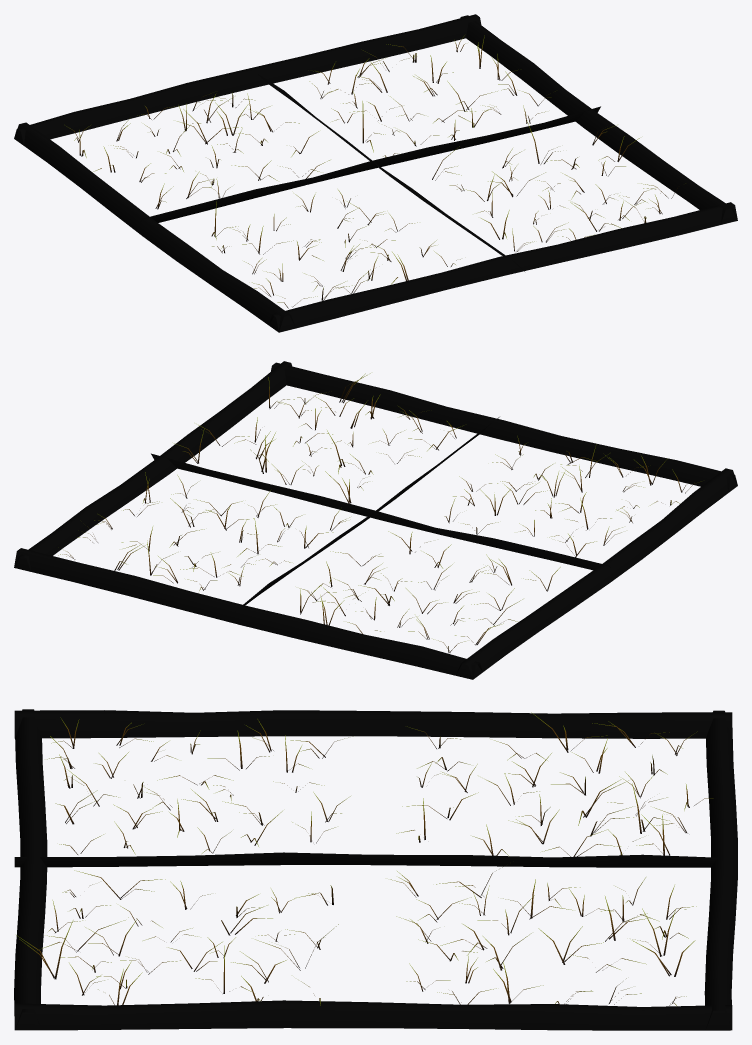
The model's file is patch_paddy_quad_far.glb.
The picture shows the model from 3 angles, top to bottom: view 1: azimuth 30°, elevation 25°; view 2: azimuth 150°, elevation 25°; view 3: azimuth 270°, elevation 25°; orthographic projection. The views are drawn at different scales.
Visible parts, largest first — view 1: patch_paddy_quad_far; view 2: patch_paddy_quad_far; view 3: patch_paddy_quad_far.
Boxes of the visible parts, box(x1,y1,x2,y2) form: patch_paddy_quad_far: box(14, 14, 737, 332); patch_paddy_quad_far: box(14, 361, 737, 679); patch_paddy_quad_far: box(14, 709, 737, 1030).
Size of the model in its own units: 12.11 by 0.867 by 12.11.
Materials: 1 (1 with a texture image).
